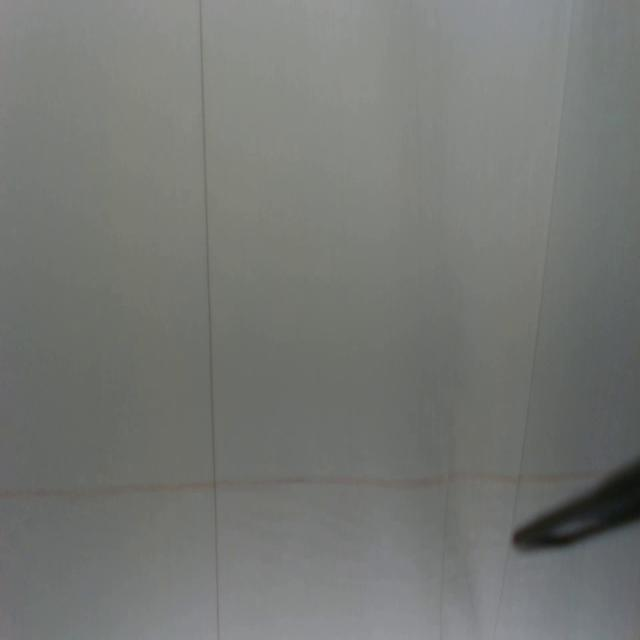crease: (517, 0, 577, 475), (198, 0, 222, 640), (436, 483, 452, 640)
